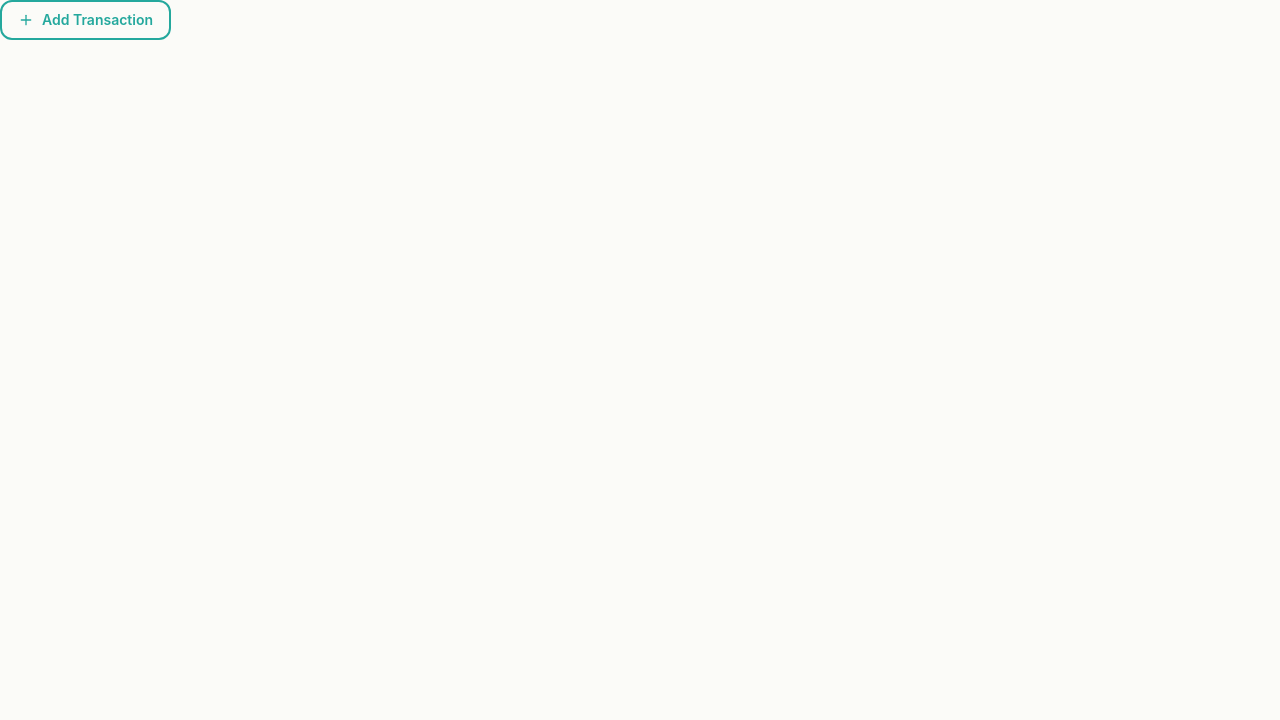
Test case: AddTransactionDialog › toggles to income mode when switch is clicked
Click the button "Add Transaction": coordinates (86, 20) [0,0,171,40]
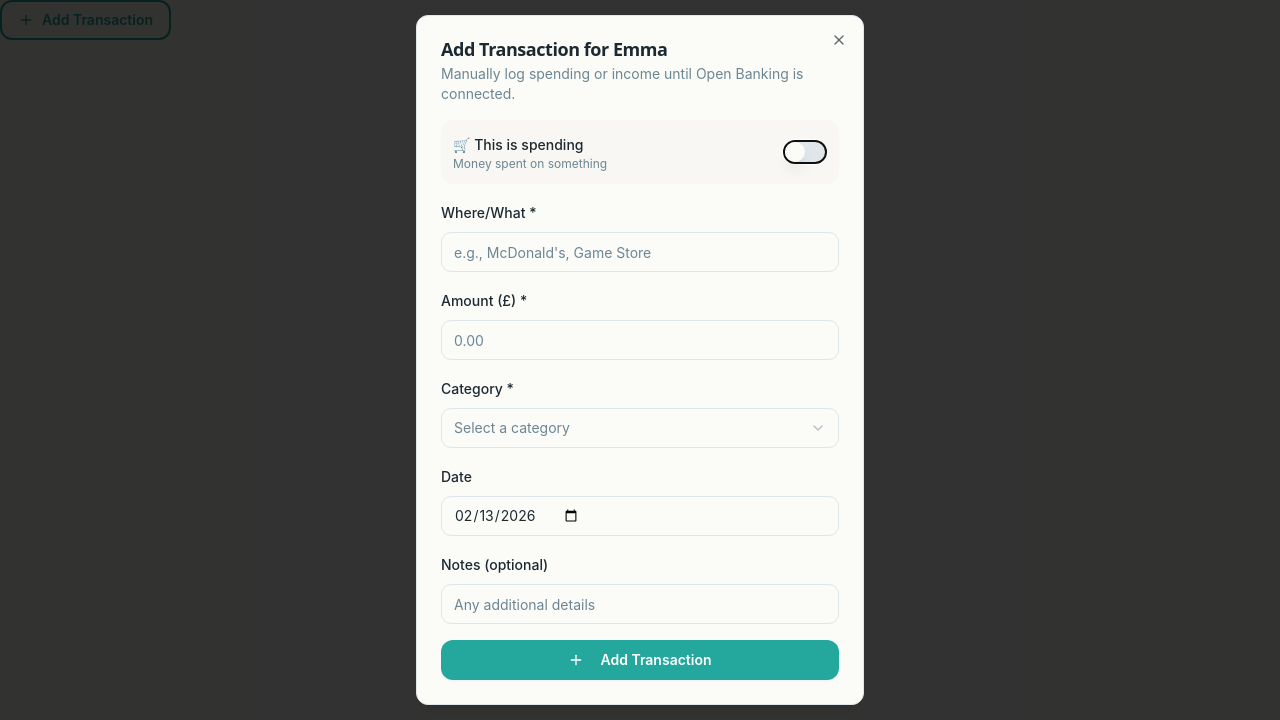
Click the switch: coordinates (805, 152) [783,140,827,164]
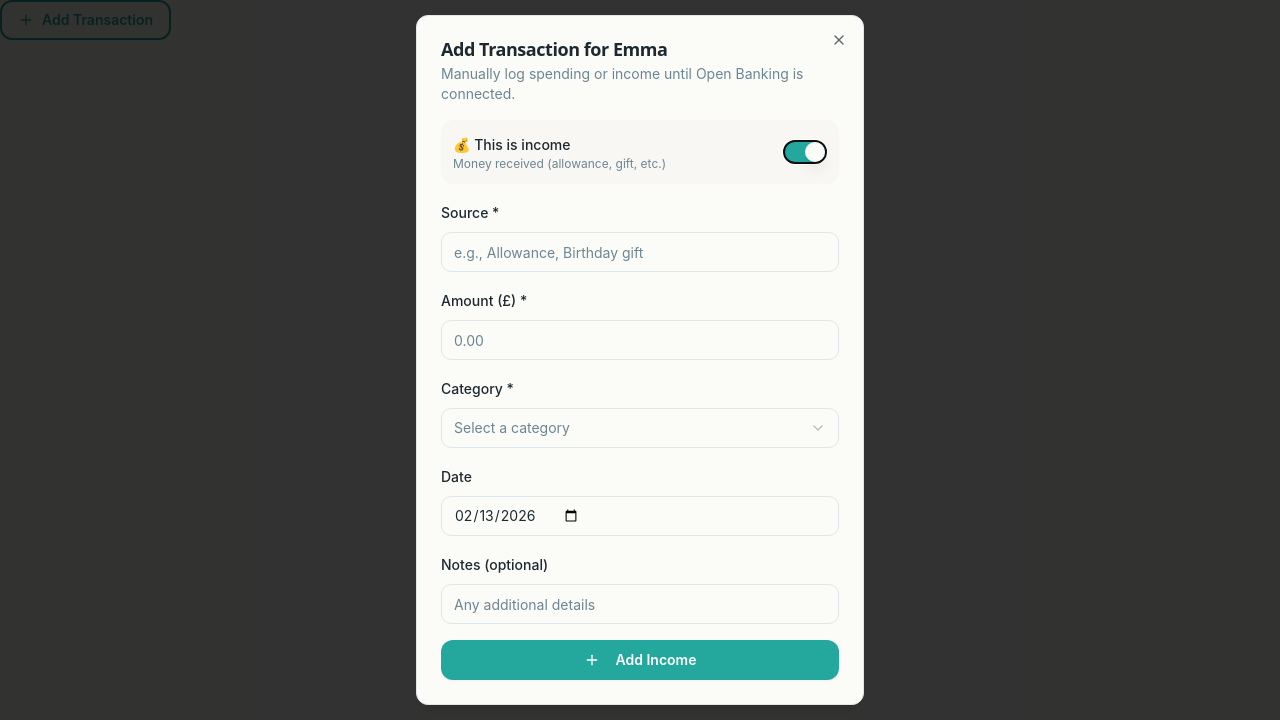
Expected: the field labelled "Source *" is shown, [441,232,839,272]
Expected: the text "💰 This is income" is shown, [453,136,570,153]
Expected: the text "Money received (allowance, gift, etc.)" is shown, [453,156,666,172]
